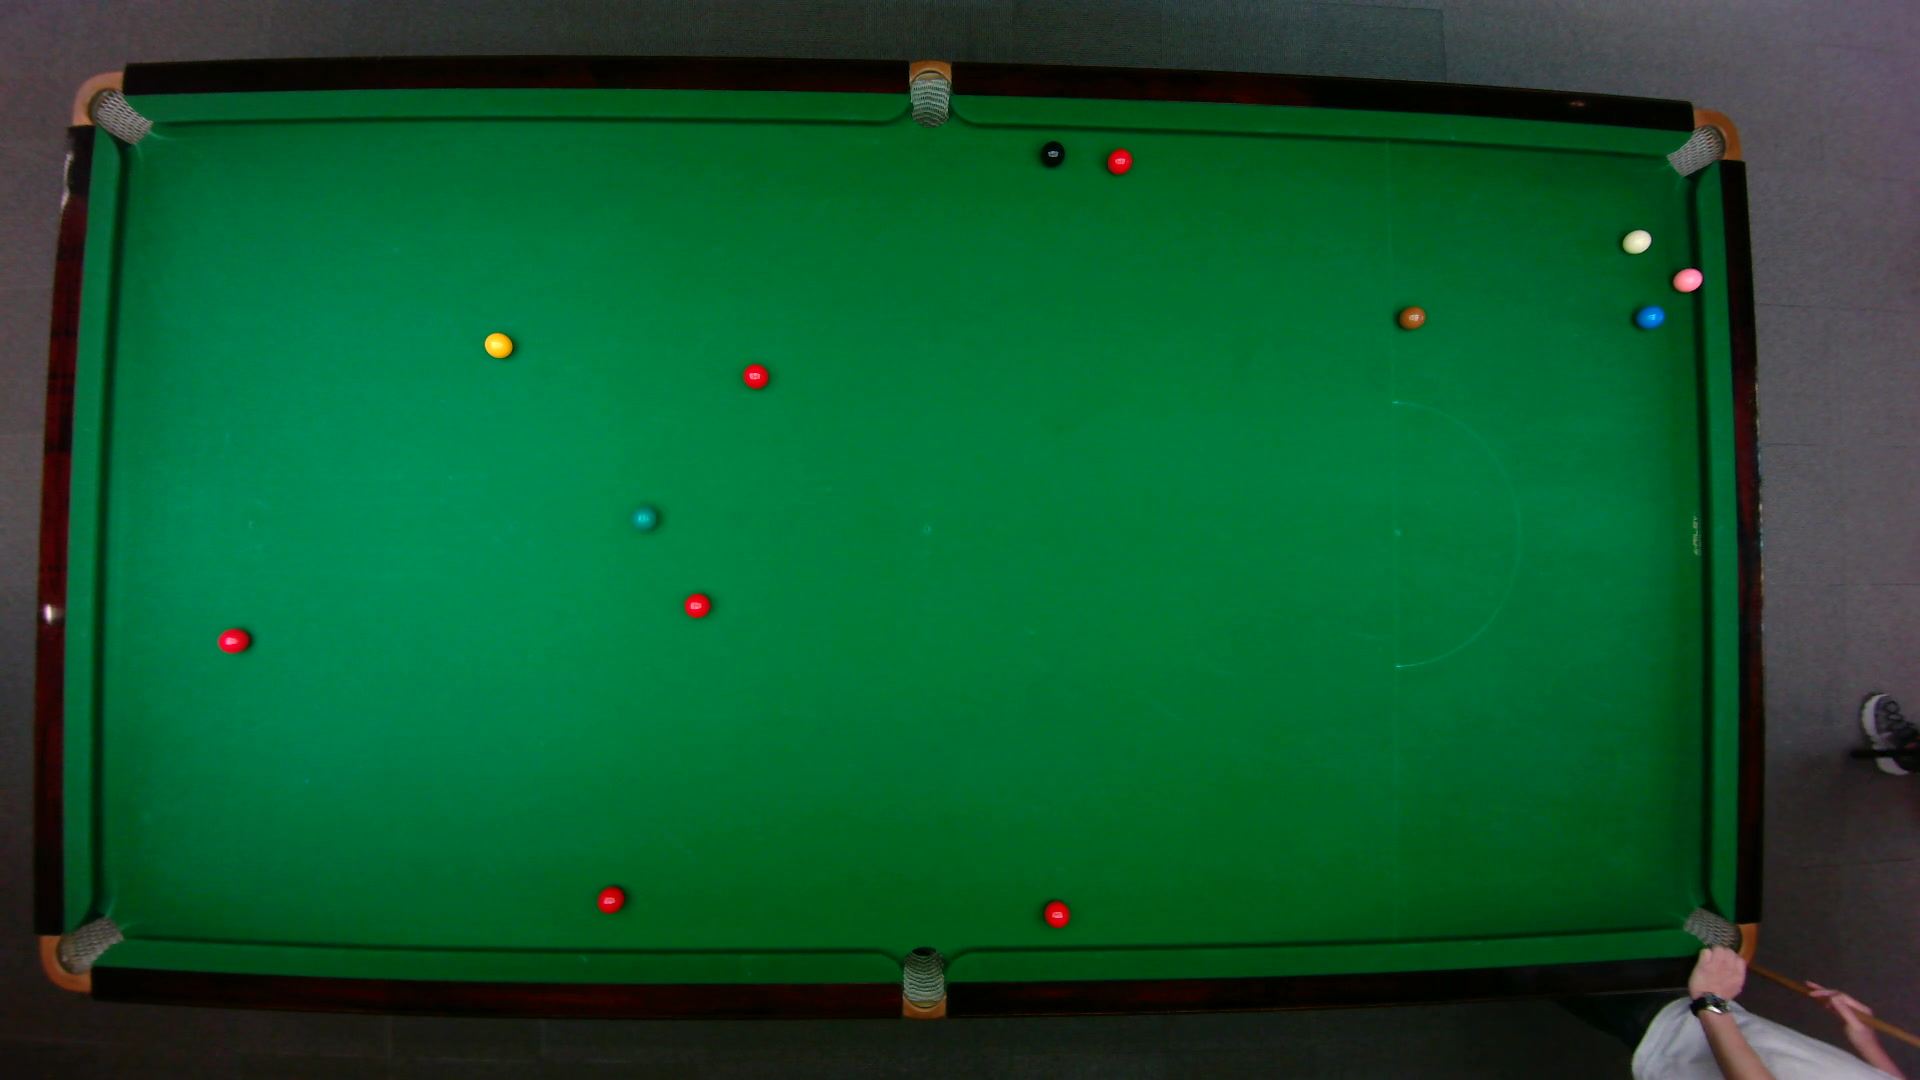bag: (37, 914, 125, 992), (69, 69, 153, 145), (1680, 903, 1756, 986), (1663, 107, 1742, 177), (899, 943, 944, 1019), (909, 58, 949, 128)
black: (1040, 140, 1064, 166)
blue: (1633, 303, 1665, 328)
brown: (1396, 305, 1427, 328)
green: (632, 504, 657, 531)
pink: (1669, 265, 1704, 293)
red: (595, 884, 625, 914), (216, 626, 251, 653), (1042, 899, 1071, 928), (1104, 146, 1133, 175), (682, 591, 711, 618), (741, 363, 769, 388)
white: (1619, 227, 1652, 253)
yellow: (481, 330, 513, 359)
zone: (1390, 400, 1520, 669)
